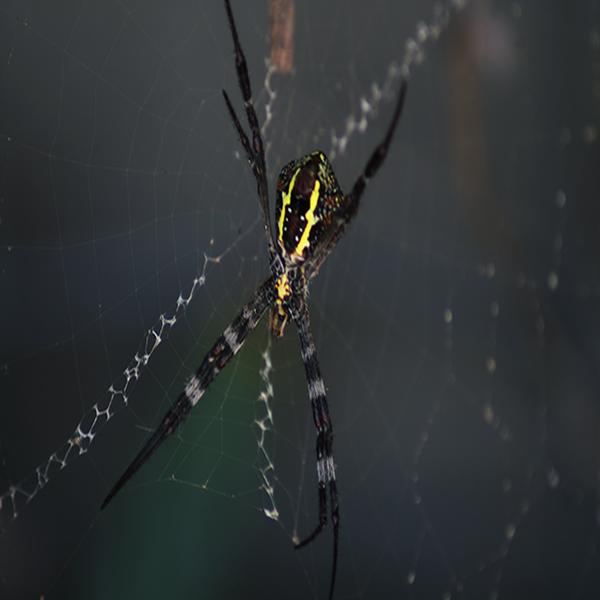St Andrew's Cross Spider: (104, 6, 380, 548)
